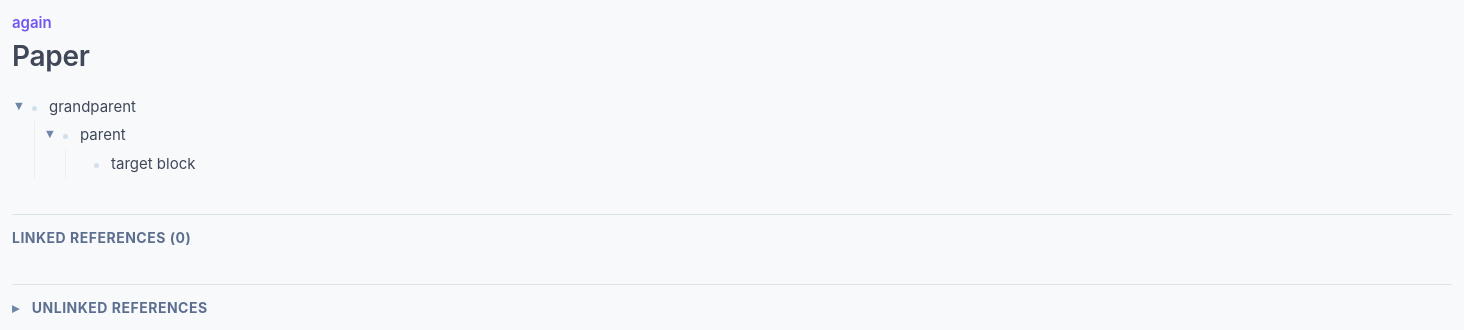
a hash naming a block inside a collapsed subtree › expands it again on a repeat navigation after the reader collapsed it
Check: the text "target block" is shown, box [111,154,196,172]
Click the button named "toggle children" at (51, 134), box [40,126,62,142]
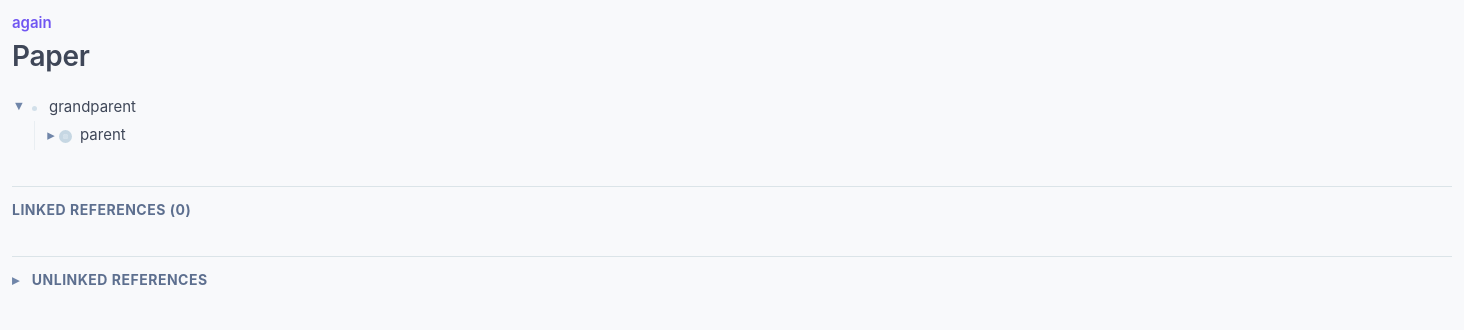
Check: the text "target block" is gone
Click the link "again" at (32, 22), box [12,13,52,32]
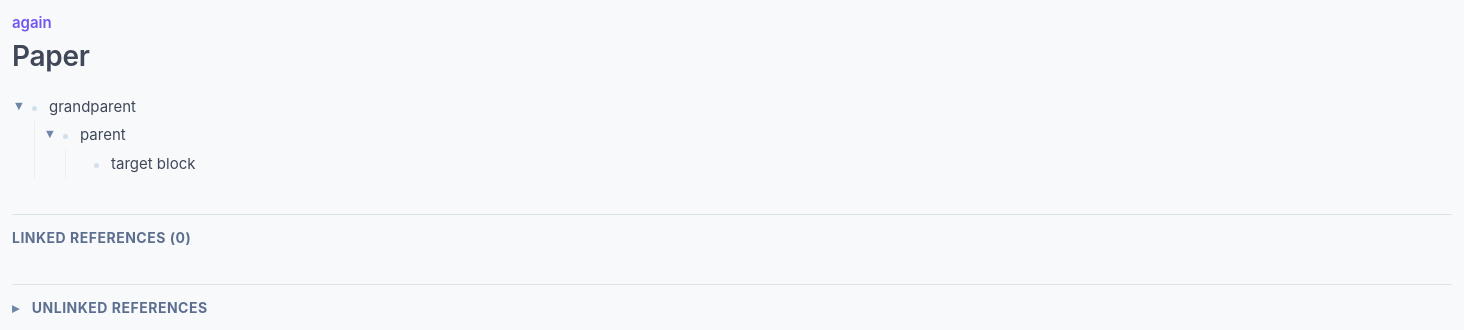
Check: the text "target block" is shown, box [111,154,196,172]
